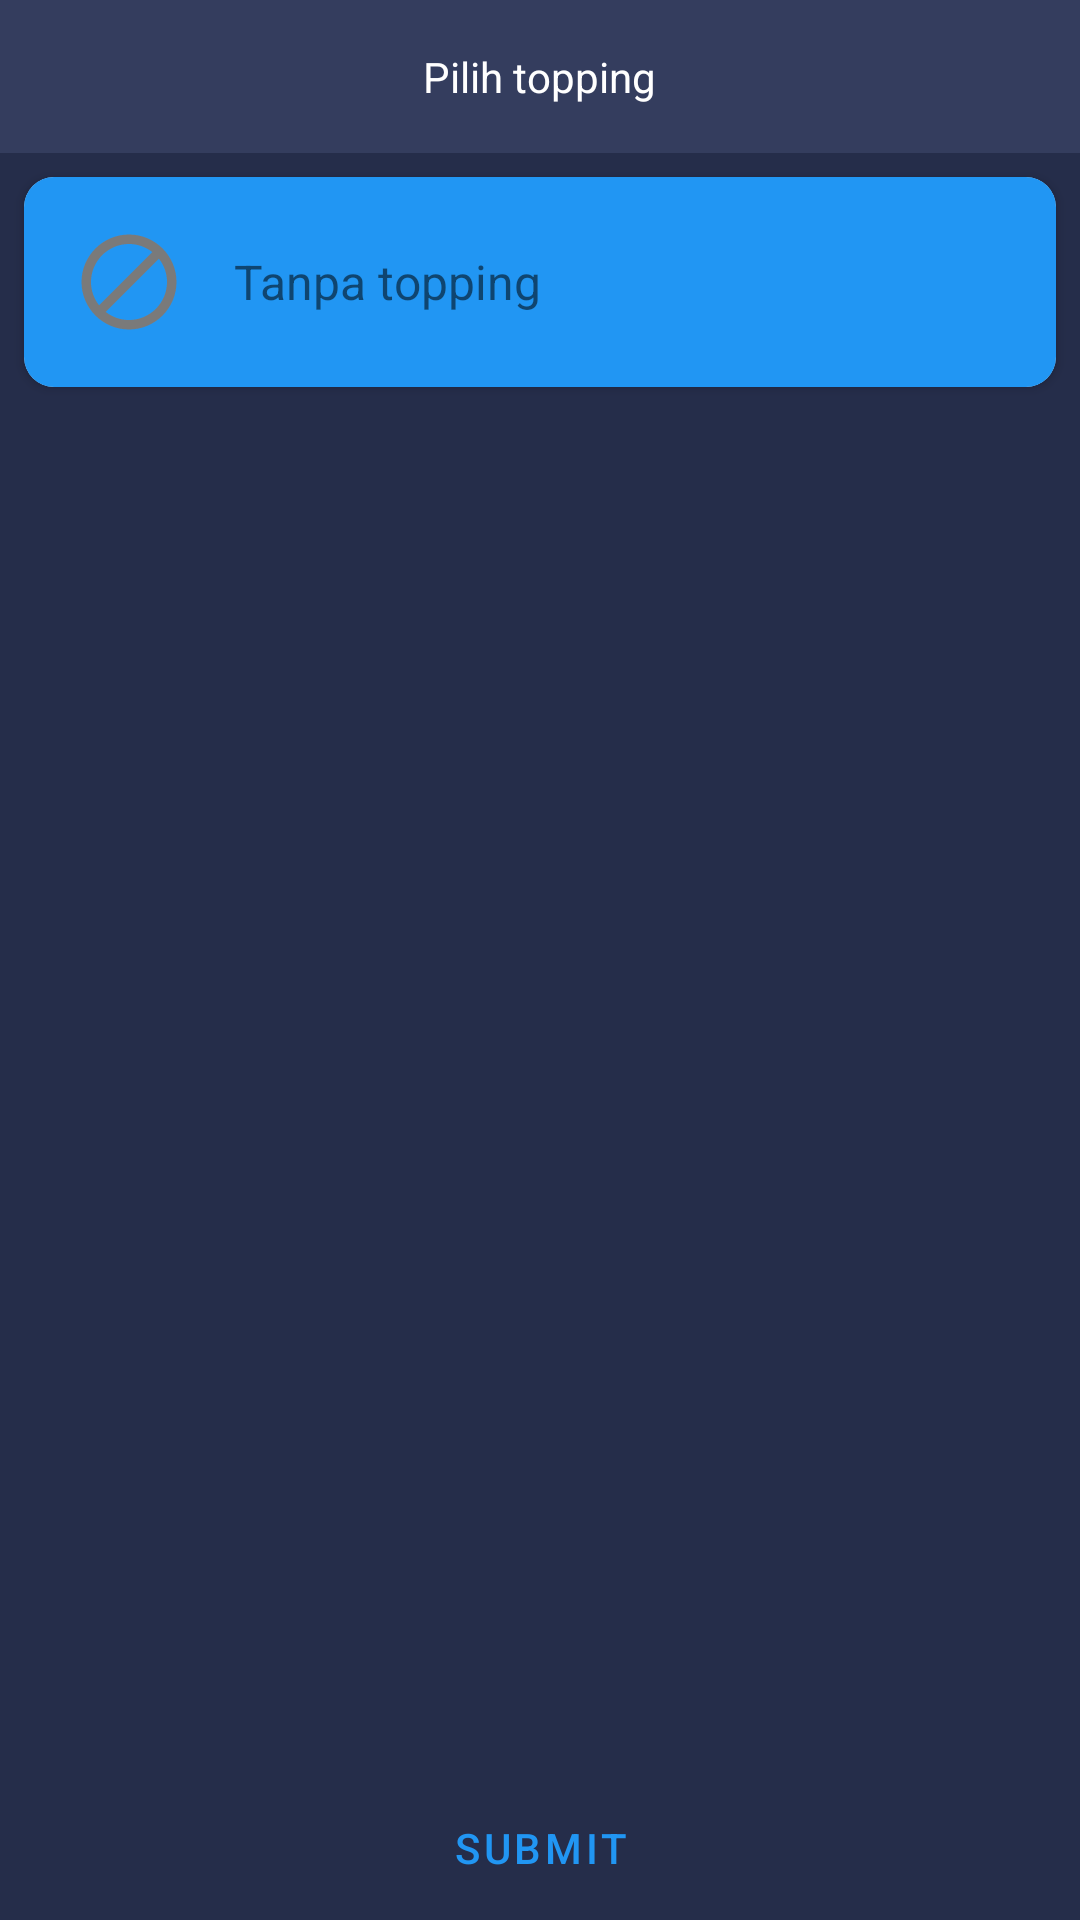

Icon click points for this 1080 × 1920 phone screenshot, format point (x, y):
No topping: point (129, 282)
